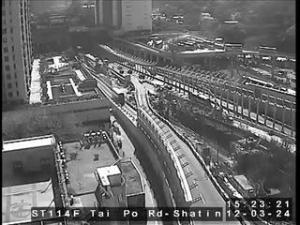bus: (112, 88, 124, 107)
vehicle: (164, 81, 172, 89), (128, 70, 132, 74), (120, 70, 124, 74), (118, 66, 122, 70)
